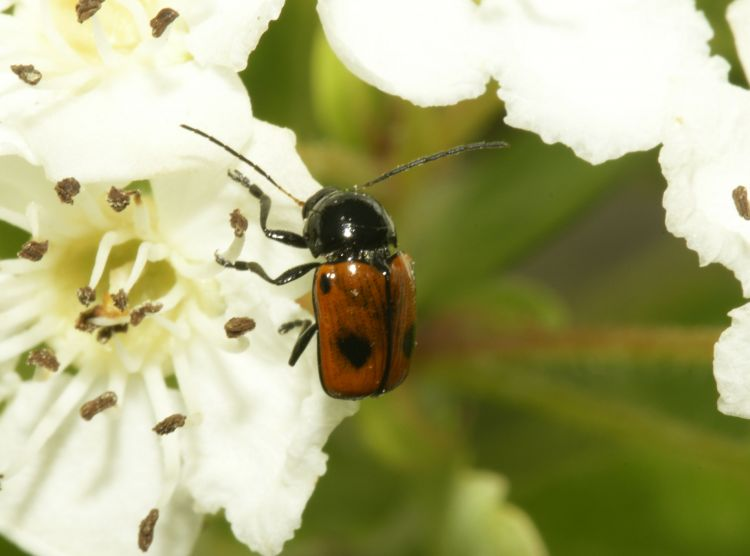Cryptocephalus_bipunctatus: (178, 113, 513, 410)
